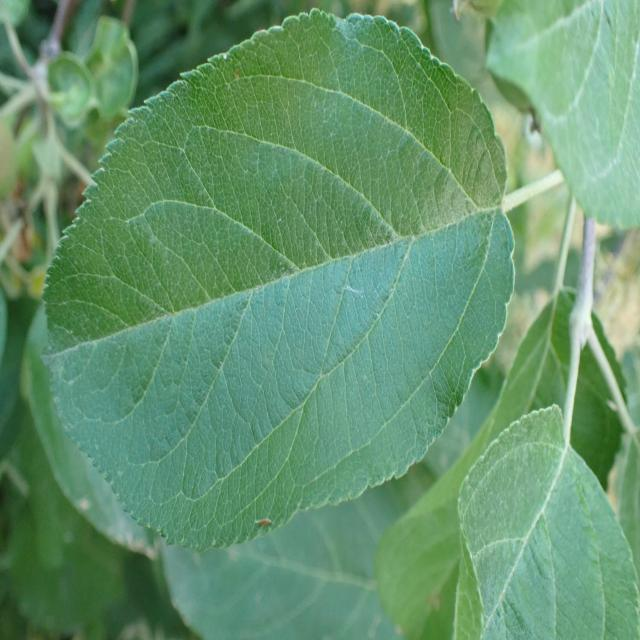healthy: (39, 8, 516, 552), (452, 406, 640, 640), (484, 0, 640, 229)
